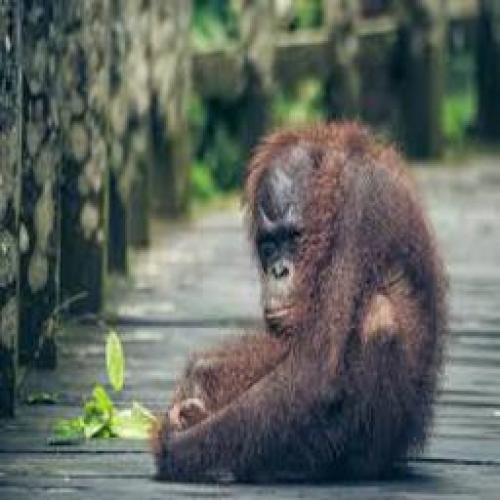orangutan-endangered: (160, 112, 448, 496)
